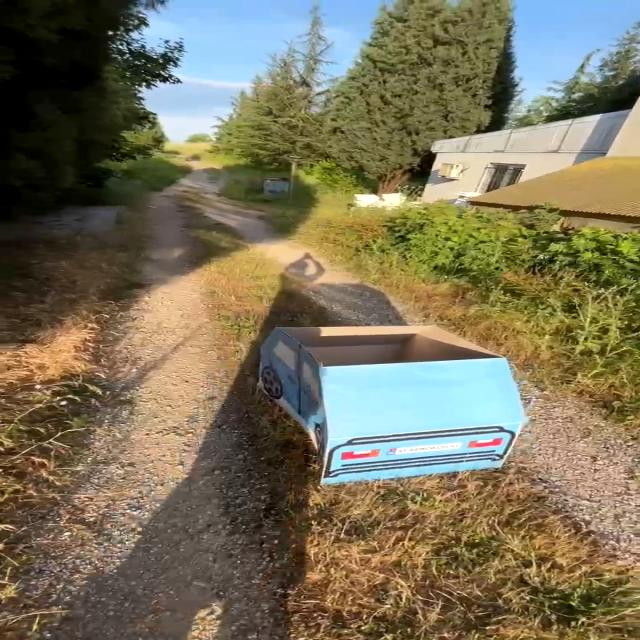blue_car: (196, 306, 549, 496)
